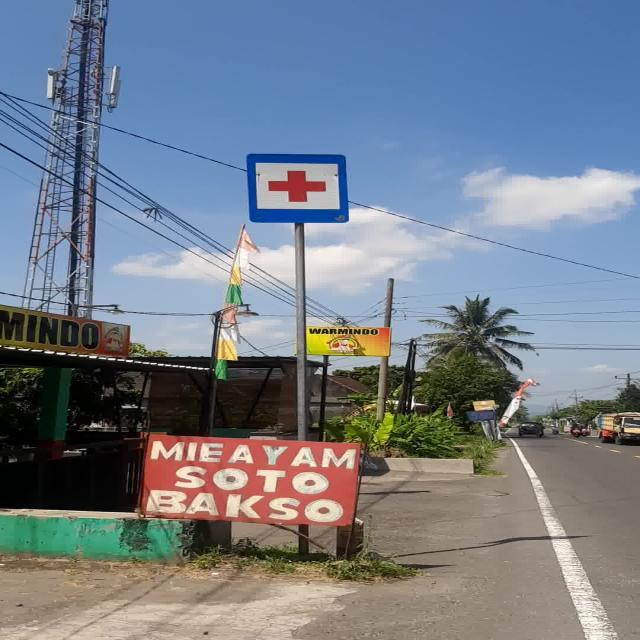Balai Pertolongan Pertama: (246, 154, 349, 222)
